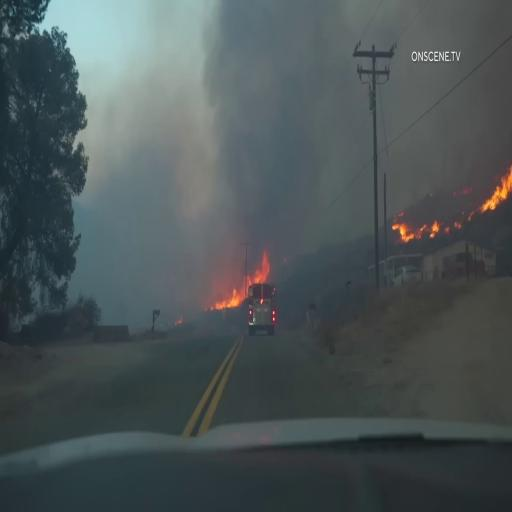fire: (208, 248, 271, 304), (481, 174, 512, 220)
